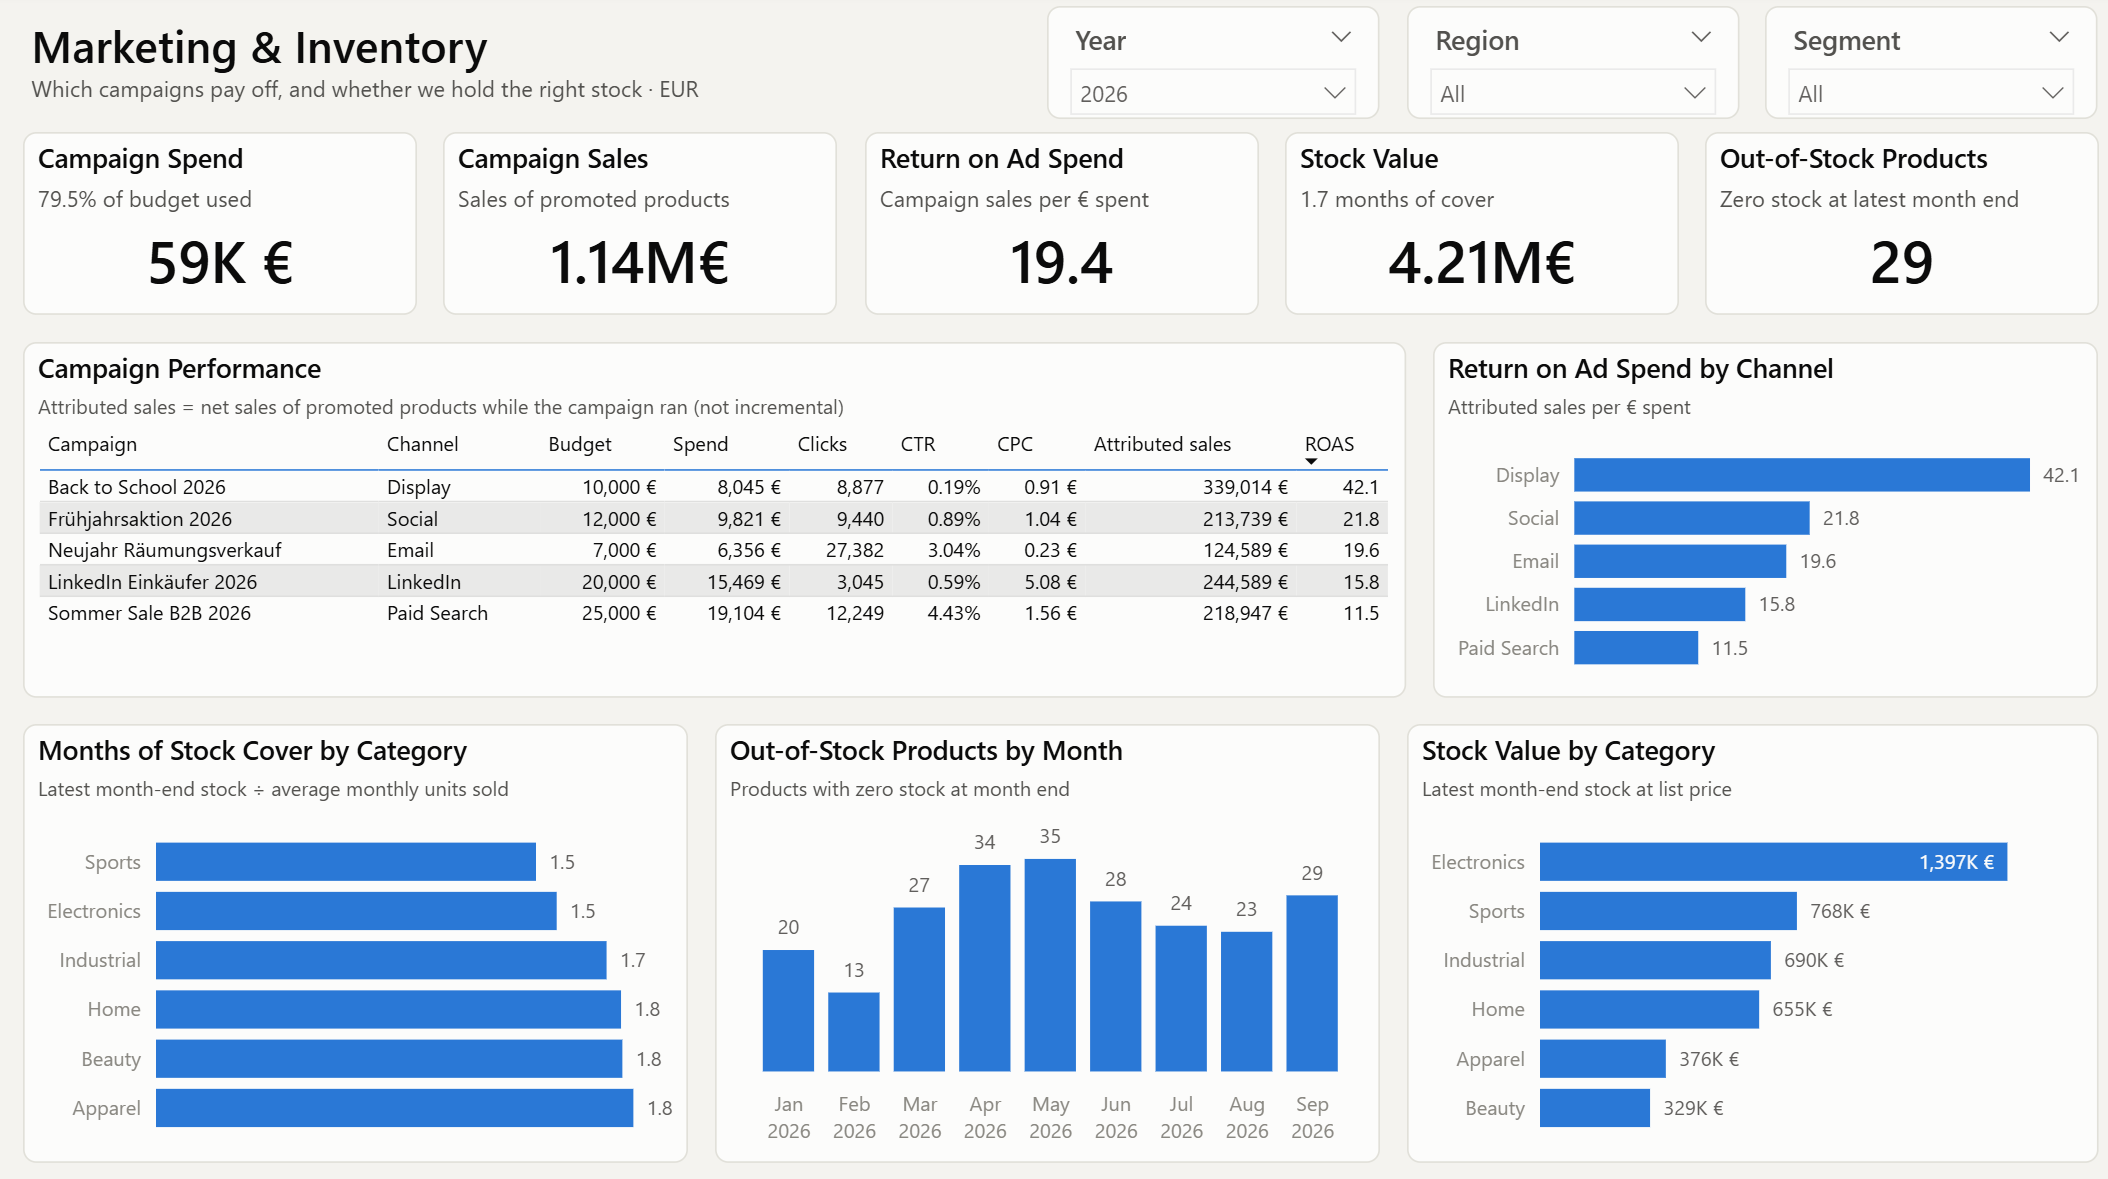

The dashboard page shown, as its layout file describes it:
{"tool":"powerbi","page":{"name":"Marketing & Inventory","canvas":[1280,720],"ordinal":4},"visuals":[{"type":"textbox","box":[16,8,600,70],"z":0},{"type":"slicer","fields":{"Values":["dim_date.year"]},"box":[632,8,200,68],"z":1000},{"type":"slicer","fields":{"Values":["dim_customer.region"]},"box":[848,8,200,68],"z":2000},{"type":"slicer","fields":{"Values":["dim_customer.segment"]},"box":[1064,8,200,68],"z":3000},{"type":"card","title":"Campaign Spend","fields":{"Values":["_measures.Campaign Spend"]},"box":[16,84,236.8,110],"z":4000},{"type":"card","title":"Campaign Sales","fields":{"Values":["_measures.Campaign Sales"]},"box":[268.8,84,236.8,110],"z":5000},{"type":"card","title":"Return on Ad Spend","fields":{"Values":["_measures.ROAS"]},"box":[521.6,84,236.8,110],"z":6000},{"type":"card","title":"Stock Value","fields":{"Values":["_measures.Stock Value"]},"box":[774.4,84,236.8,110],"z":7000},{"type":"card","title":"Out-of-Stock Products","fields":{"Values":["_measures.Out-of-Stock Products"]},"box":[1027.2,84,236.8,110],"z":8000},{"type":"tableEx","title":"Campaign Performance","fields":{"Values":["dim_campaign.campaign_name","dim_campaign.channel","_measures.Campaign Budget","_measures.Campaign Spend","_measures.Clicks","_measures.CTR","_measures.CPC","_measures.Campaign Sales","_measures.ROAS"]},"box":[16,210,832,214],"z":9000},{"type":"clusteredBarChart","title":"Return on Ad Spend by Channel","fields":{"Category":["dim_campaign.channel"],"Y":["_measures.ROAS"]},"box":[864,210,400,214],"z":10000},{"type":"clusteredBarChart","title":"Months of Stock Cover by Category","fields":{"Category":["dim_product.category"],"Y":["_measures.Months of Cover"]},"box":[16,440,400,264],"z":11000},{"type":"clusteredColumnChart","title":"Out-of-Stock Products by Month","fields":{"Category":["dim_date.Month Year"],"Y":["_measures.Out-of-Stock Products"]},"box":[432,440,400,264],"z":12000},{"type":"clusteredBarChart","title":"Stock Value by Category","fields":{"Category":["dim_product.category"],"Y":["_measures.Stock Value"]},"box":[848,440,416,264],"z":13000}]}

Visuals, with their boxes in screenshot pixels (x1, y1, x2, y2), scaled from the page's 1280x720 canvas onto the 2108x1179 screenshot:
textbox: (x1=26, y1=13, x2=1014, y2=128)
slicer - dim_date.year: (x1=1041, y1=13, x2=1370, y2=124)
slicer - dim_customer.region: (x1=1397, y1=13, x2=1726, y2=124)
slicer - dim_customer.segment: (x1=1752, y1=13, x2=2082, y2=124)
"Campaign Spend" card: (x1=26, y1=138, x2=416, y2=318)
"Campaign Sales" card: (x1=443, y1=138, x2=833, y2=318)
"Return on Ad Spend" card: (x1=859, y1=138, x2=1249, y2=318)
"Stock Value" card: (x1=1275, y1=138, x2=1665, y2=318)
"Out-of-Stock Products" card: (x1=1692, y1=138, x2=2082, y2=318)
"Campaign Performance" tableEx: (x1=26, y1=344, x2=1397, y2=694)
"Return on Ad Spend by Channel" clusteredBarChart: (x1=1423, y1=344, x2=2082, y2=694)
"Months of Stock Cover by Category" clusteredBarChart: (x1=26, y1=720, x2=685, y2=1153)
"Out-of-Stock Products by Month" clusteredColumnChart: (x1=711, y1=720, x2=1370, y2=1153)
"Stock Value by Category" clusteredBarChart: (x1=1397, y1=720, x2=2082, y2=1153)
